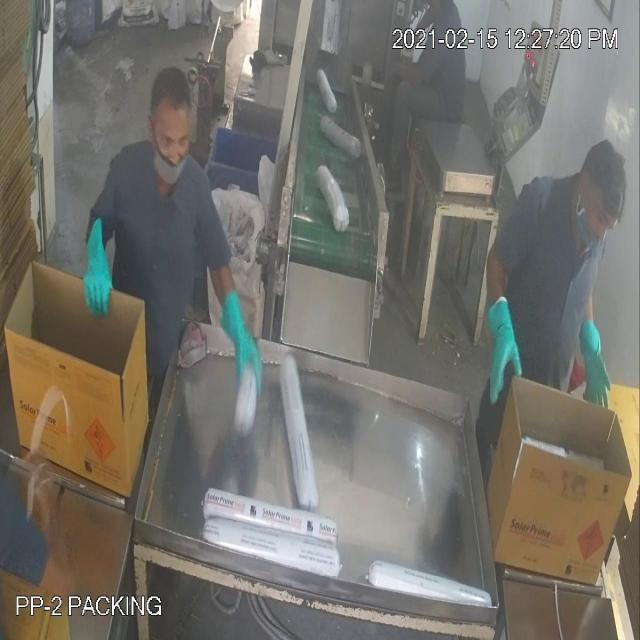Gloves: (47, 46, 594, 366)
